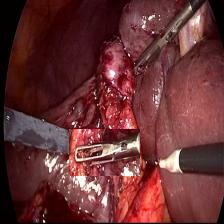Grasper: (128, 7, 183, 86), (70, 129, 140, 176)
Hook: (152, 146, 182, 177)
